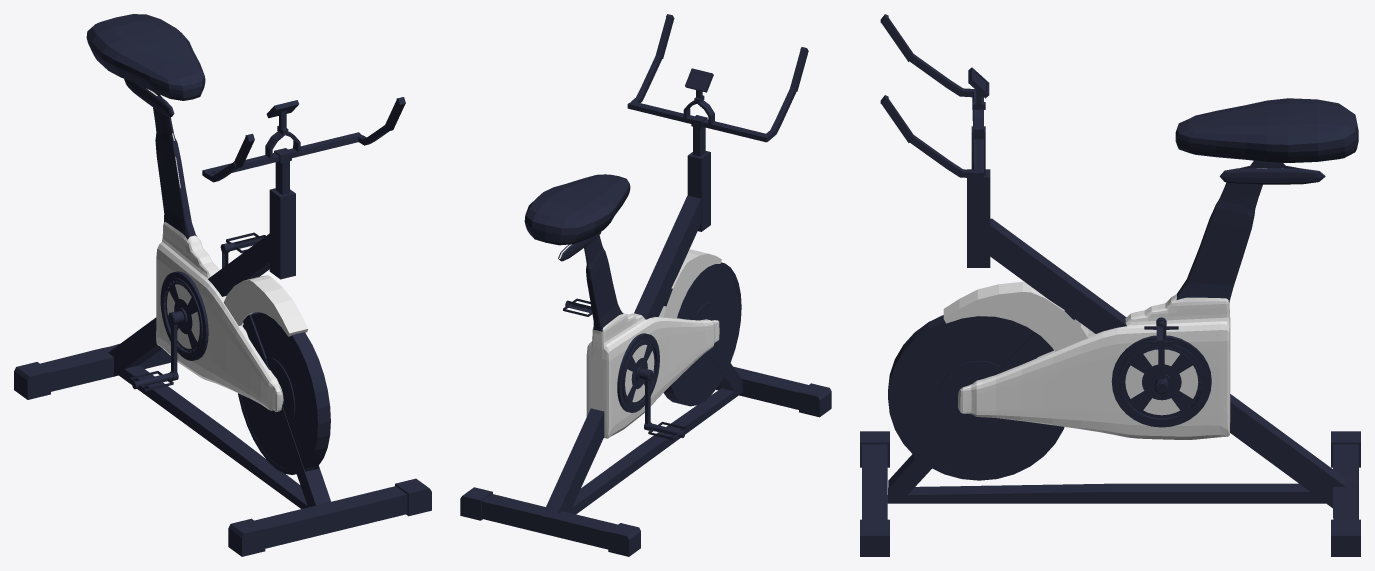
File: bike.fbx
3 views of the same model, side by side, from view 1: azimuth 30°, elevation 25°; view 2: azimuth 150°, elevation 25°; view 3: azimuth 270°, elevation 25° (orthographic). The views are drawn at different scales.
Visible parts, largest first — view 1: Cube, Cube.002, Cylinder, Cylinder.001, Cylinder.002, Cylinder.003; view 2: Cube, Cube.002, Cylinder, Cylinder.002, Cylinder.001, Cylinder.003; view 3: Cube.002, Cube, Cylinder, Cylinder.002, Cylinder.001, Cylinder.003.
Part boxes in pixels (bbox=[...]): Cube: bbox=[14, 97, 431, 556]; Cube.002: bbox=[86, 14, 283, 411]; Cylinder: bbox=[238, 312, 330, 474]; Cylinder.001: bbox=[223, 275, 308, 336]; Cylinder.002: bbox=[160, 271, 208, 360]; Cylinder.003: bbox=[129, 232, 265, 391]; Cube: bbox=[460, 14, 831, 556]; Cube.002: bbox=[524, 174, 719, 438]; Cylinder: bbox=[663, 262, 741, 406]; Cylinder.002: bbox=[617, 333, 659, 412]; Cylinder.001: bbox=[659, 249, 721, 318]; Cylinder.003: bbox=[563, 298, 687, 440]; Cube.002: bbox=[958, 98, 1358, 439]; Cube: bbox=[860, 14, 1360, 556]; Cylinder: bbox=[888, 315, 1064, 480]; Cylinder.002: bbox=[1111, 335, 1211, 427]; Cylinder.001: bbox=[943, 281, 1088, 351]; Cylinder.003: bbox=[1144, 317, 1178, 394].
Bounding box in the file's own units: 50.9 × 105 × 106.
